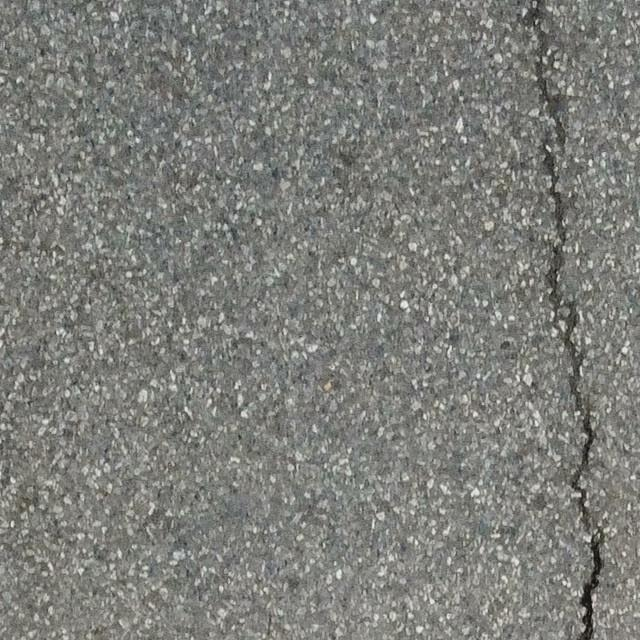LongitudinalCrack: (531, 58, 607, 640)
